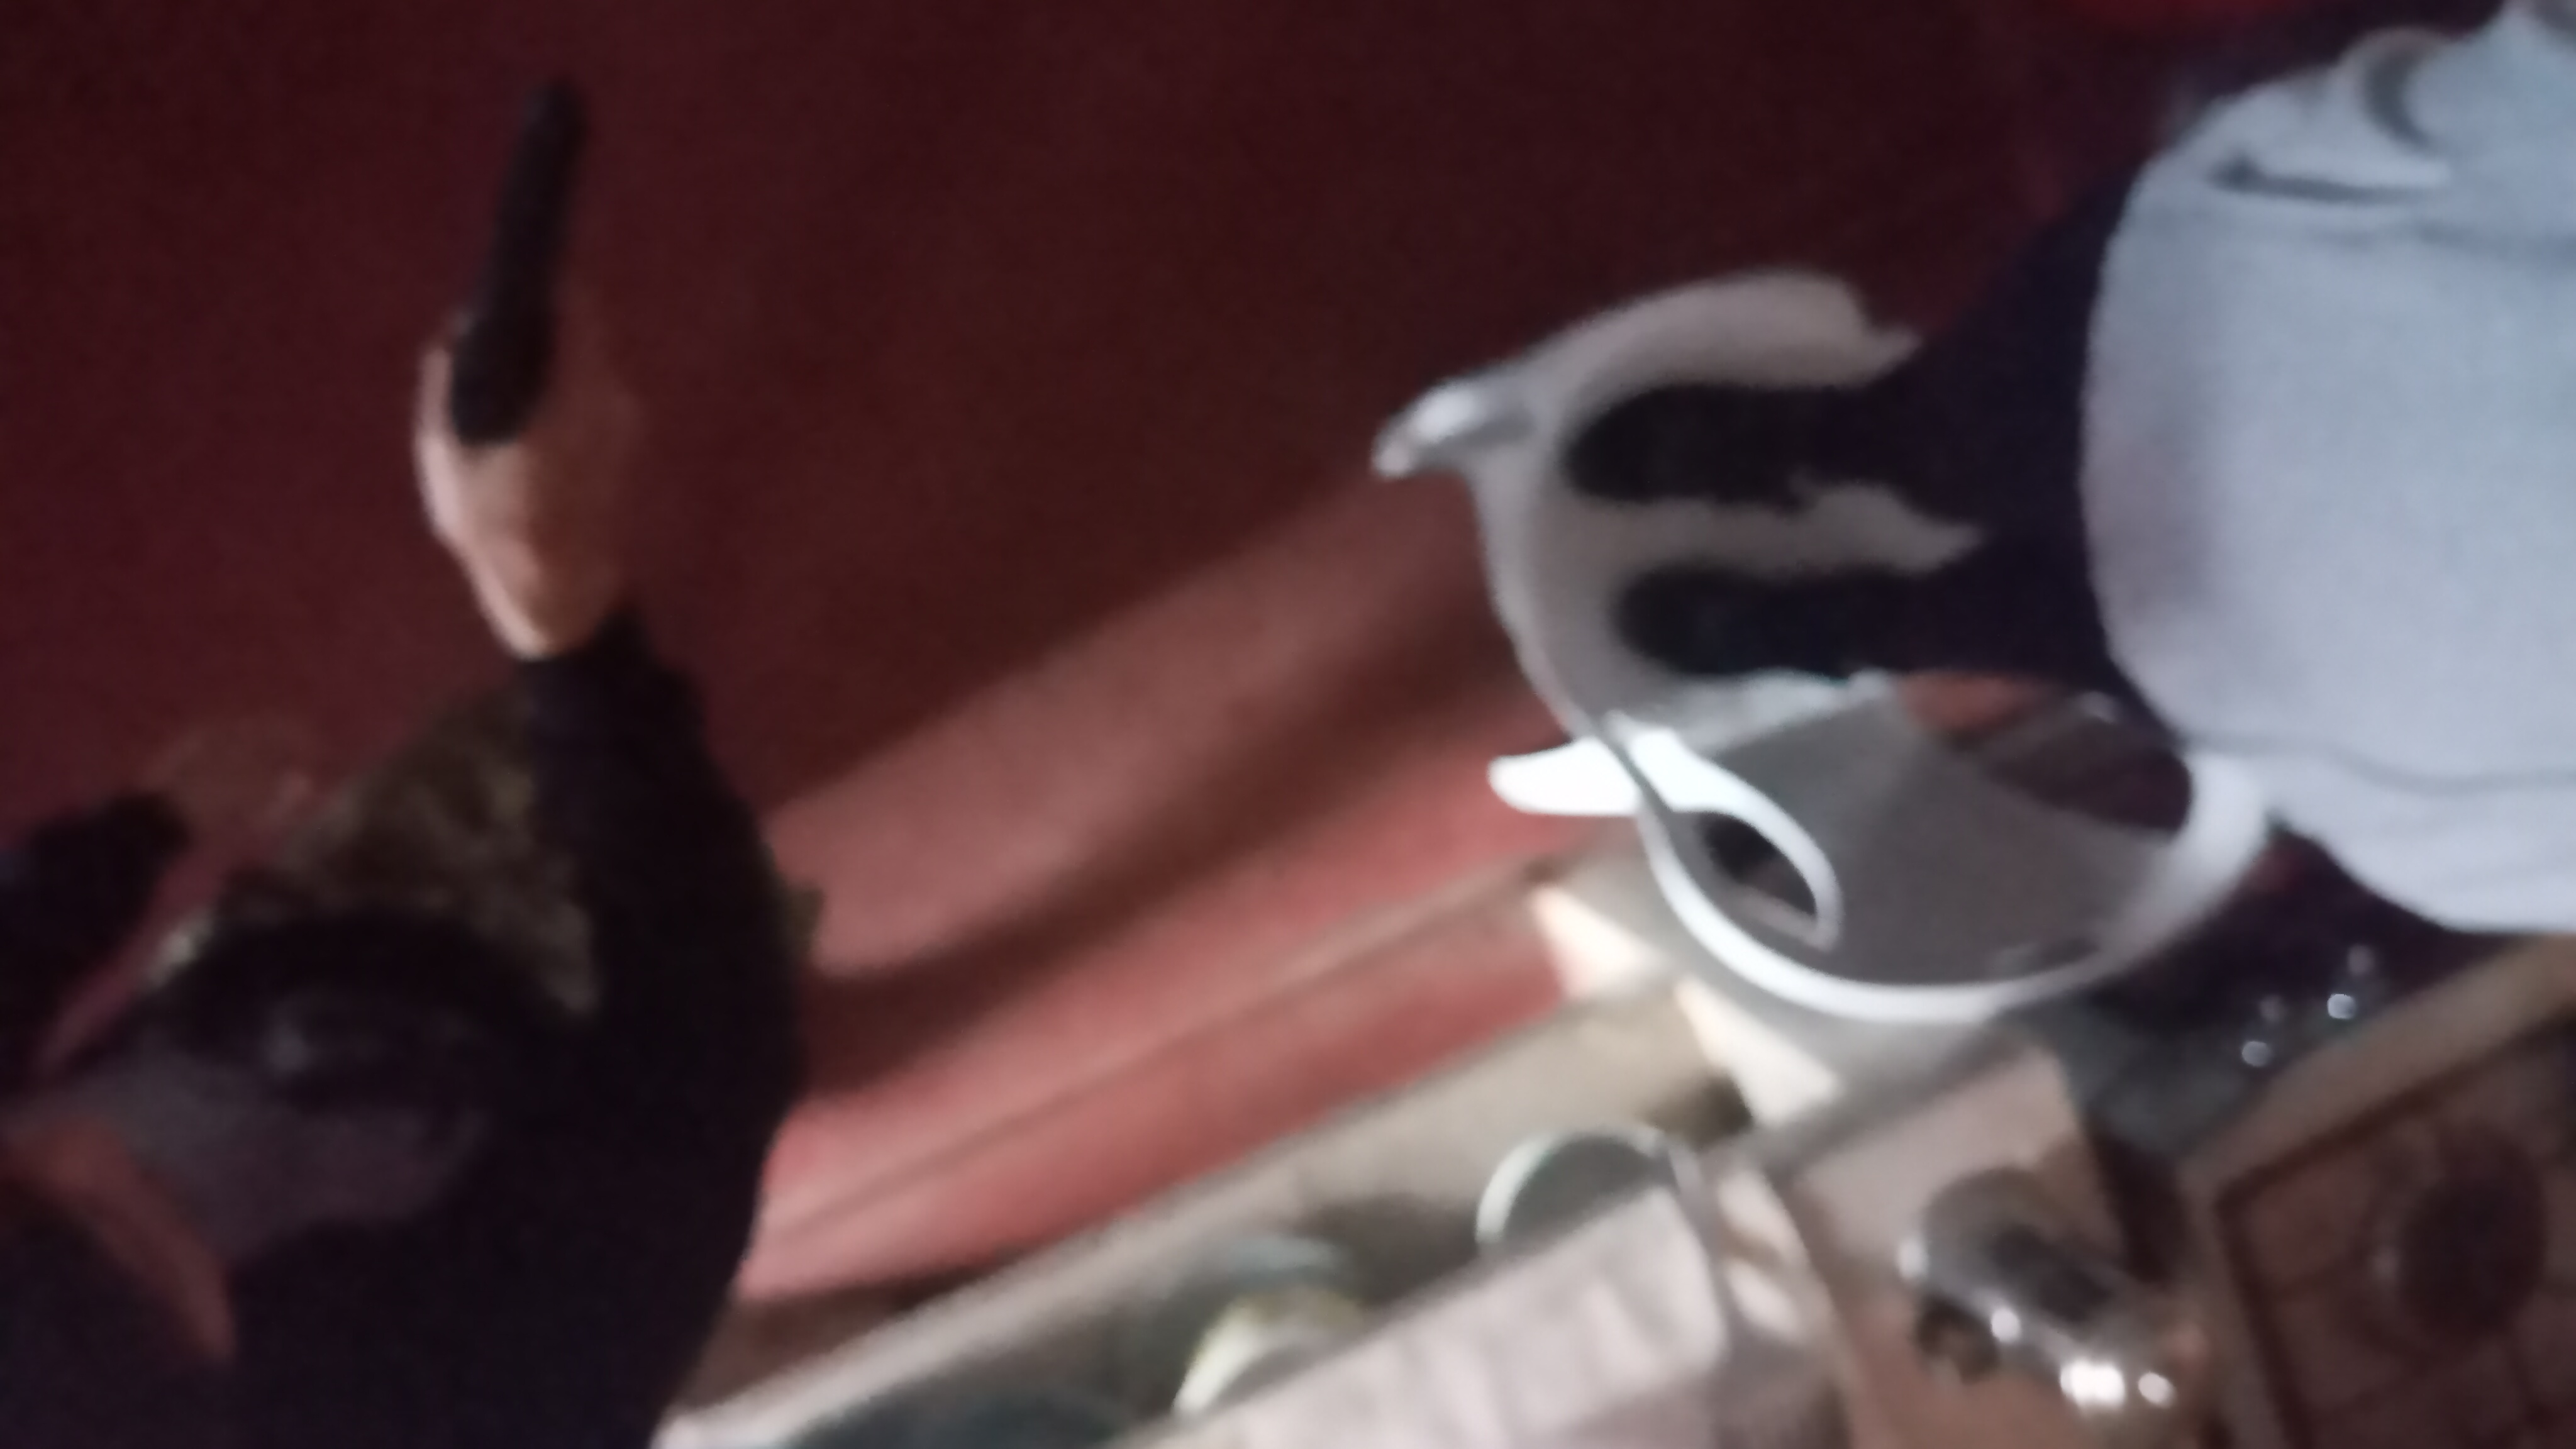Arma: (444, 78, 589, 471)
